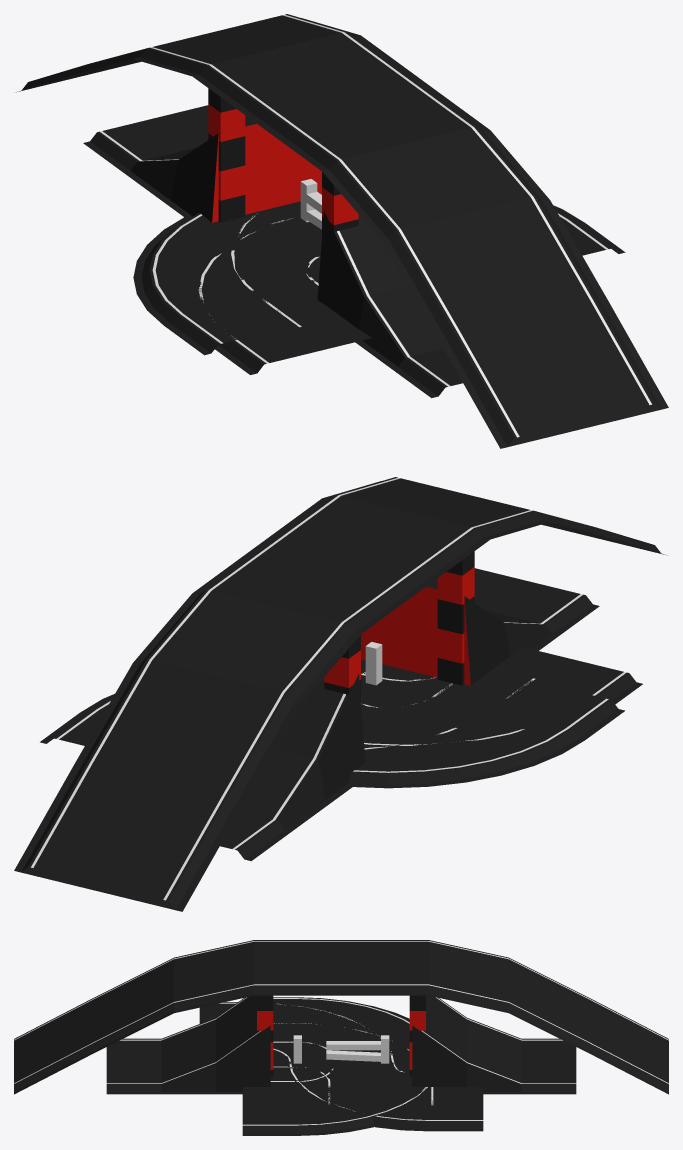
File: track_parts_01.fbx
The picture shows the model from 3 angles, top to bottom: view 1: azimuth 30°, elevation 25°; view 2: azimuth 150°, elevation 25°; view 3: azimuth 270°, elevation 25°; orthographic projection. The views are drawn at different scales.
Visible parts, largest first — view 1: ramp, jump, corner, corner_3, corner_2, fence; view 2: ramp, jump, corner, corner_3, corner_2, fence_end; view 3: ramp, jump, corner, corner_3, corner_2, fence.
Part boxes in pixels (bbox=[...]): ramp: bbox=[16, 14, 668, 448]; jump: bbox=[83, 105, 462, 398]; corner: bbox=[133, 201, 625, 355]; corner_3: bbox=[196, 218, 371, 374]; corner_2: bbox=[229, 213, 340, 327]; fence: bbox=[300, 179, 321, 229]; ramp: bbox=[14, 477, 666, 911]; jump: bbox=[220, 568, 599, 861]; corner: bbox=[345, 670, 624, 788]; corner_3: bbox=[40, 646, 642, 747]; corner_2: bbox=[361, 664, 536, 750]; fence_end: bbox=[365, 642, 382, 685]; ramp: bbox=[14, 940, 668, 1094]; jump: bbox=[106, 995, 576, 1094]; corner: bbox=[242, 997, 429, 1135]; corner_3: bbox=[199, 1002, 483, 1131]; corner_2: bbox=[273, 1022, 435, 1105]; fence: bbox=[326, 1035, 389, 1063].
Bounding box in the file's own units: 15 × 5.25 × 30.
